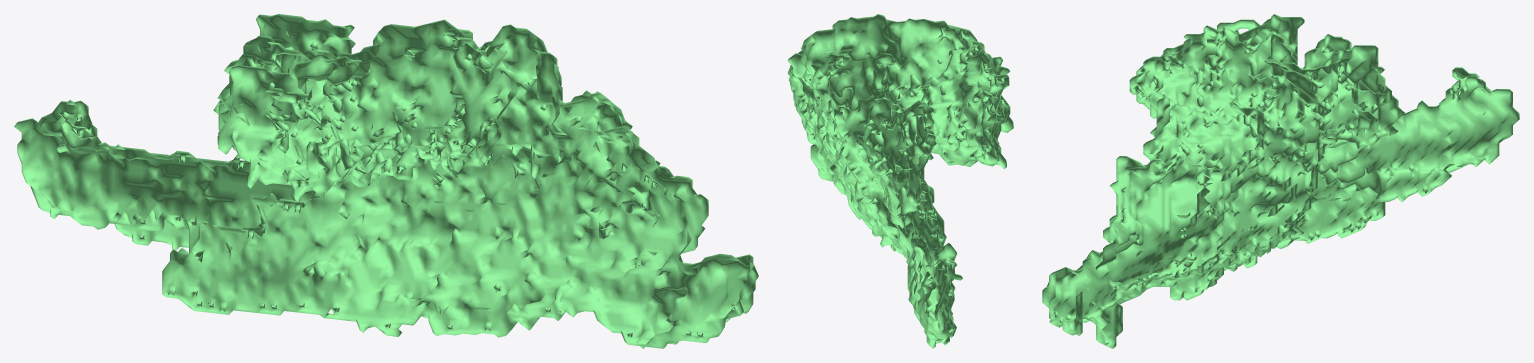
Rendered from osteocyte_173.glb.
The picture shows the model from 3 angles, left to right: view 1: azimuth 30°, elevation 25°; view 2: azimuth 150°, elevation 25°; view 3: azimuth 270°, elevation 25°; orthographic projection. The views are drawn at different scales.
Parts seen in each view (by area): view 1: osteocyte_173; view 2: osteocyte_173; view 3: osteocyte_173.
Boxes of the visible parts, x1=… form: osteocyte_173: x1=14, y1=14, x2=758, y2=348; osteocyte_173: x1=787, y1=14, x2=1013, y2=348; osteocyte_173: x1=1042, y1=14, x2=1519, y2=348.
Size of the model in its own units: 29.85 by 16.85 by 34.18.
